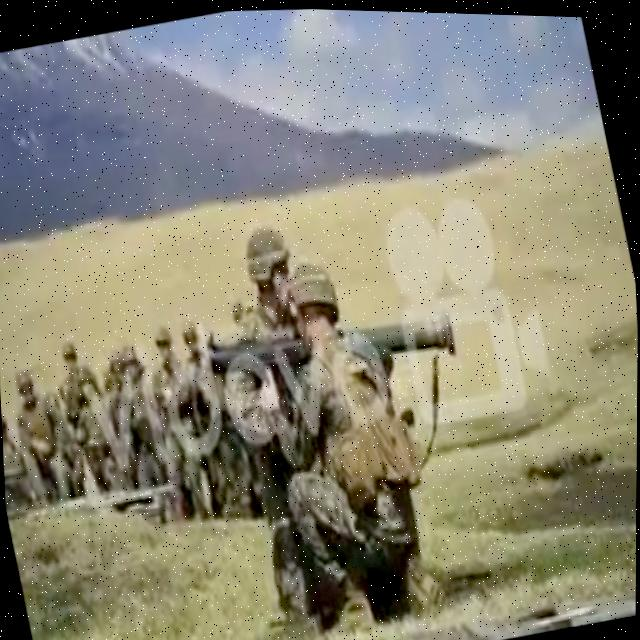rocket: (202, 286, 462, 403)
